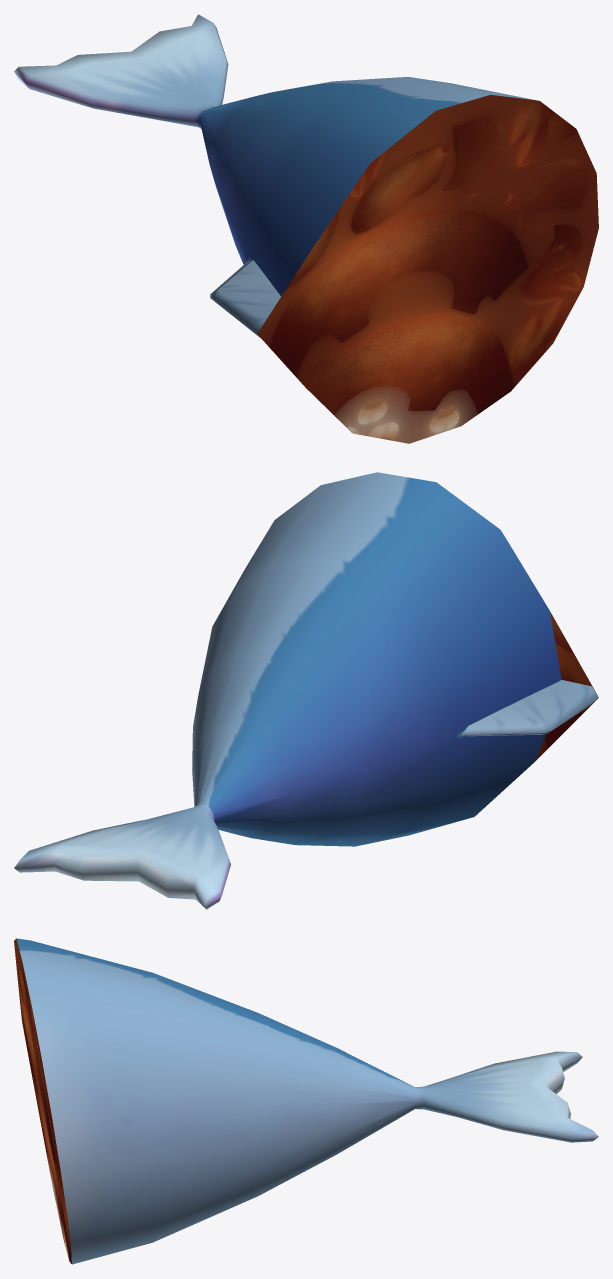
Rendered from fish05.fbx.
3 views of the same model, one above another, from view 1: azimuth 30°, elevation 25°; view 2: azimuth 150°, elevation 25°; view 3: azimuth 270°, elevation 25° (orthographic). The views are drawn at different scales.
Visible parts, largest first — view 1: fish05; view 2: fish05; view 3: fish05.
Part boxes in pixels (left/top/right/bottom): fish05: left=14, top=14, right=598, bottom=443; fish05: left=14, top=472, right=598, bottom=909; fish05: left=14, top=938, right=598, bottom=1264.
Size of the model in its own units: 0.1715 by 0.1589 by 0.2802.
